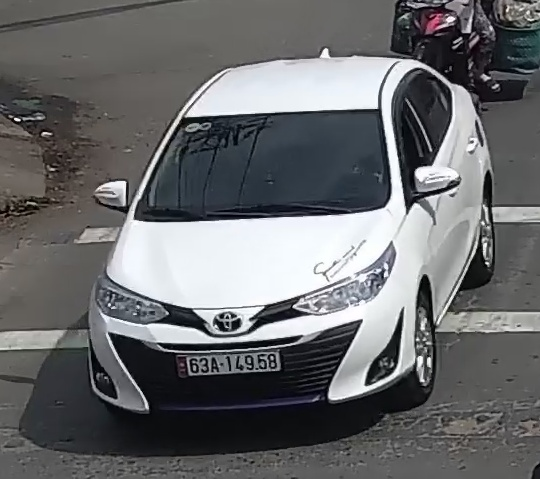vehicle plate: (186, 344, 293, 373)
